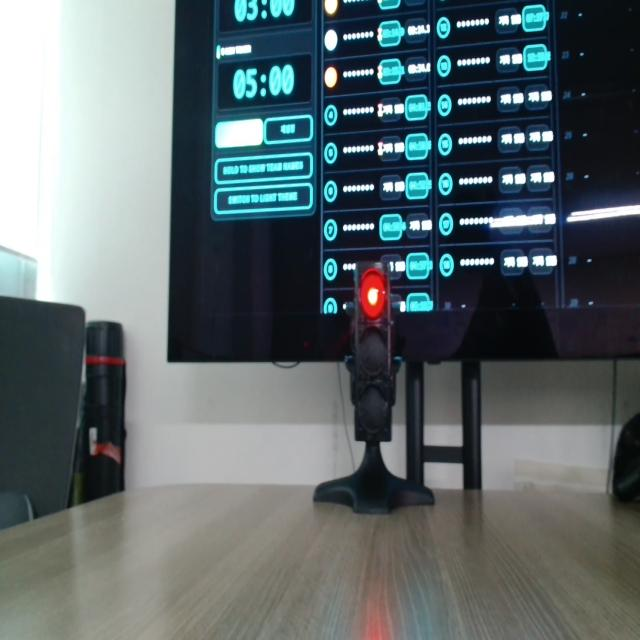red_light: (360, 269, 386, 319)
